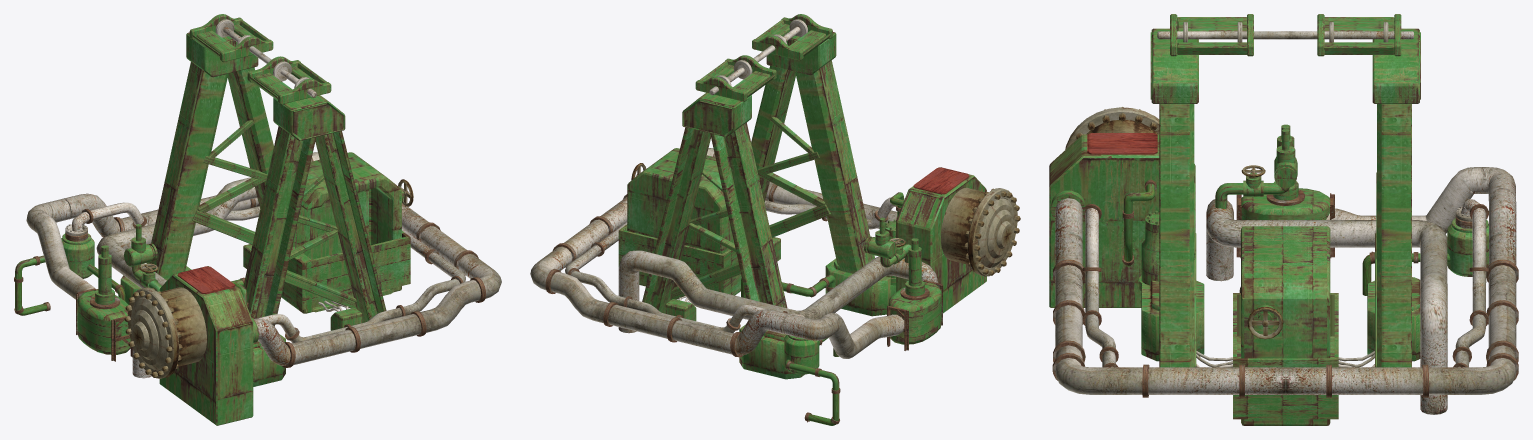
Rendered from static.glb.
3 renders of one model, left to right at view 1: azimuth 30°, elevation 25°; view 2: azimuth 150°, elevation 25°; view 3: azimuth 270°, elevation 25°, orthographic. The views are drawn at different scales.
Visible parts, largest first — view 1: Cube_8_2, Sweep_10, Cube_7_2, Cube, Boole_1, Cube_1_13, Sweep_1_6, Sweep_1_4, Cube_5_2, Sweep_8, Extrude_3, Cylinder_1_9 (+19 smaller); view 2: Cube_8_2, Sweep_10, Cube_7_2, Sweep_8, Boole_1, Cube, Cube_1_7, Sweep_1_6, Sweep_1_4, Cube_1_13, Cube_5_2, Extrude_3 (+20 smaller); view 3: Sweep_10, Cube_7_2, Boole_1, Cube, Sweep_8, Cube_5_2, Cube_1_13, Sweep_1_6, Cube_1_7, Sweep_1_4, Extrude_3, Cylinder_1_6 (+21 smaller).
Boxes of the visible parts, <box> form: Cube_8_2: <box>146,62,315,326</box>; Sweep_10: <box>63,152,501,365</box>; Cube_7_2: <box>227,67,386,322</box>; Cube: <box>159,266,253,425</box>; Boole_1: <box>281,152,401,313</box>; Cube_1_13: <box>281,231,410,310</box>; Sweep_1_6: <box>72,202,465,343</box>; Sweep_1_4: <box>26,198,96,299</box>; Cube_5_2: <box>186,32,345,140</box>; Sweep_8: <box>96,177,257,378</box>; Extrude_3: <box>77,290,130,354</box>; Cylinder_1_9: <box>161,287,206,366</box>; Cube_8_2: <box>710,60,874,308</box>; Sweep_10: <box>530,148,897,355</box>; Cube_7_2: <box>642,65,795,313</box>; Sweep_8: <box>618,250,938,333</box>; Boole_1: <box>627,148,740,295</box>; Cube: <box>896,167,986,313</box>; Cube_1_7: <box>739,258,895,379</box>; Sweep_1_6: <box>565,197,904,333</box>; Sweep_1_4: <box>783,313,904,358</box>; Cube_1_13: <box>618,224,741,294</box>; Cube_5_2: <box>682,32,836,136</box>; Extrude_3: <box>888,282,941,344</box>; Sweep_10: <box>1055,189,1516,394</box>; Cube_7_2: <box>1159,104,1411,367</box>; Boole_1: <box>1241,226,1330,425</box>; Cube: <box>1049,134,1195,307</box>; Sweep_8: <box>1206,199,1447,414</box>; Cube_5_2: <box>1151,28,1419,103</box>; Cube_1_13: <box>1233,293,1338,419</box>; Sweep_1_6: <box>1085,199,1486,367</box>; Cube_1_7: <box>1141,277,1420,361</box>; Sweep_1_4: <box>1326,167,1515,233</box>; Extrude_3: <box>1241,188,1330,219</box>; Cylinder_1_6: <box>1157,31,1413,39</box>.
Size of the model in its own units: 6.27 by 5.03 by 5.75.
6 materials, 6 textured.
